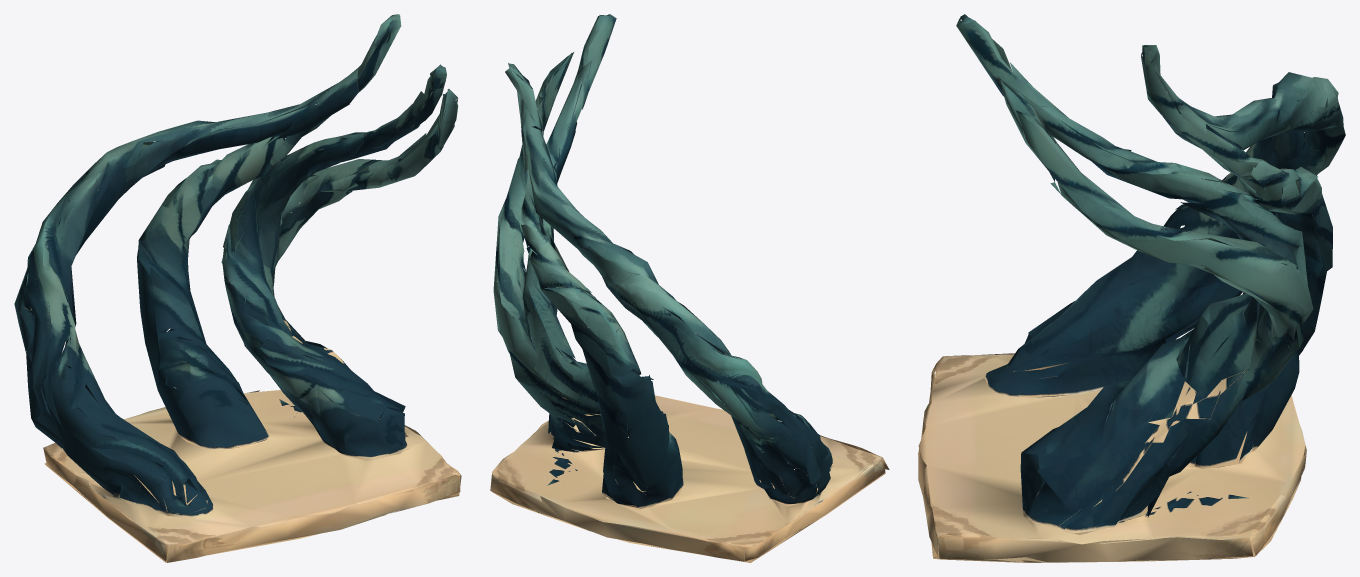
File: palm1.1.glb
The picture shows the model from 3 angles, left to right: view 1: azimuth 30°, elevation 25°; view 2: azimuth 150°, elevation 25°; view 3: azimuth 270°, elevation 25°; orthographic projection. The views are drawn at different scales.
Parts seen in each view (by area): view 1: palm1; view 2: palm1; view 3: palm1.
Boxes of the visible parts, x1,y1,x2,y2 form: palm1: (14, 14, 461, 562); palm1: (490, 14, 889, 562); palm1: (918, 14, 1345, 562).
Bounding box in the file's own units: 1.71 × 1.91 × 1.38.
1 material, 1 textured.
